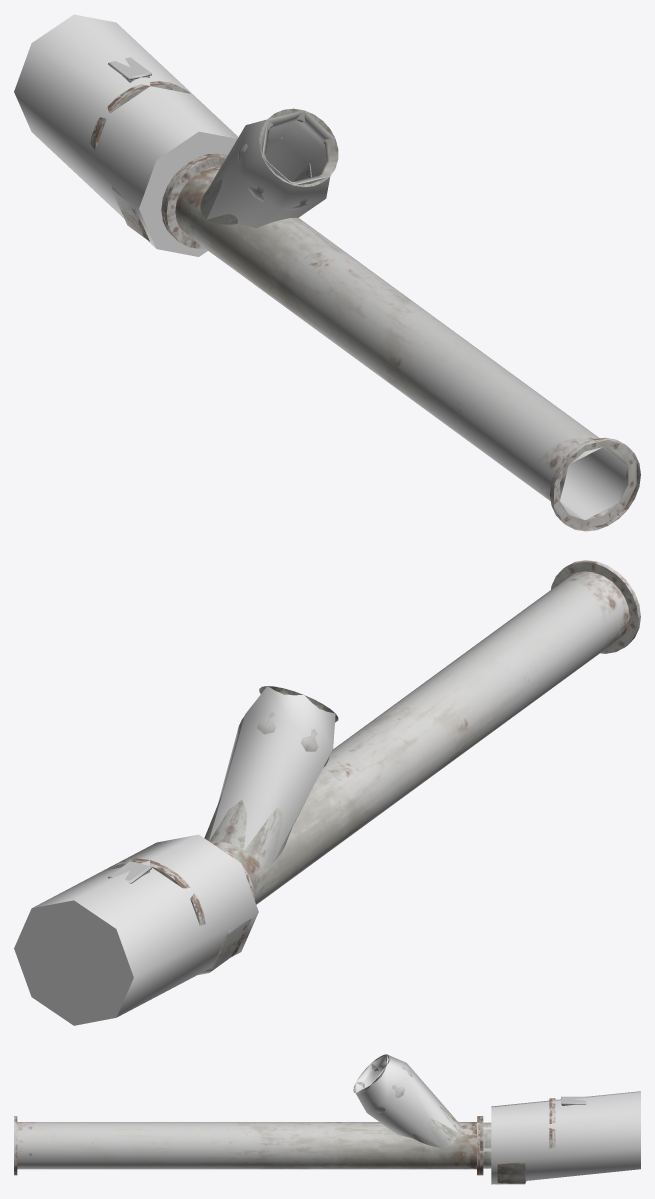
File: s_screwconveyor_01.dae
The picture shows the model from 3 angles, top to bottom: view 1: azimuth 30°, elevation 25°; view 2: azimuth 150°, elevation 25°; view 3: azimuth 270°, elevation 25°; orthographic projection. The views are drawn at different scales.
Visible parts, largest first — view 1: s_screwconveyor_01_L800, Colmesh_s_screwconveyor_01-1, s_screwconveyor_01_L400, s_screwconveyor_01_L40, s_screwconveyor_01_L150; view 2: Colmesh_s_screwconveyor_01-1, s_screwconveyor_01_L800, s_screwconveyor_01_L400; view 3: s_screwconveyor_01_L800, Colmesh_s_screwconveyor_01-1, s_screwconveyor_01_L400, s_screwconveyor_01_L40, s_screwconveyor_01_L150.
Boxes of the visible parts, x1=… form: s_screwconveyor_01_L800: x1=90, y1=58, x2=640, y2=531; Colmesh_s_screwconveyor_01-1: x1=14, y1=14, x2=628, y2=519; s_screwconveyor_01_L400: x1=96, y1=84, x2=639, y2=531; s_screwconveyor_01_L40: x1=262, y1=110, x2=335, y2=185; s_screwconveyor_01_L150: x1=110, y1=57, x2=628, y2=519; Colmesh_s_screwconveyor_01-1: x1=14, y1=686, x2=335, y2=1025; s_screwconveyor_01_L800: x1=107, y1=560, x2=640, y2=925; s_screwconveyor_01_L400: x1=111, y1=562, x2=636, y2=975; s_screwconveyor_01_L800: x1=14, y1=1054, x2=586, y2=1175; Colmesh_s_screwconveyor_01-1: x1=356, y1=1054, x2=640, y2=1184; s_screwconveyor_01_L400: x1=353, y1=1054, x2=526, y2=1184; s_screwconveyor_01_L40: x1=355, y1=1054, x2=386, y2=1093; s_screwconveyor_01_L150: x1=372, y1=1059, x2=585, y2=1105.
Bounding box in the file's own units: 0.5355 × 4.04 × 0.8939.
